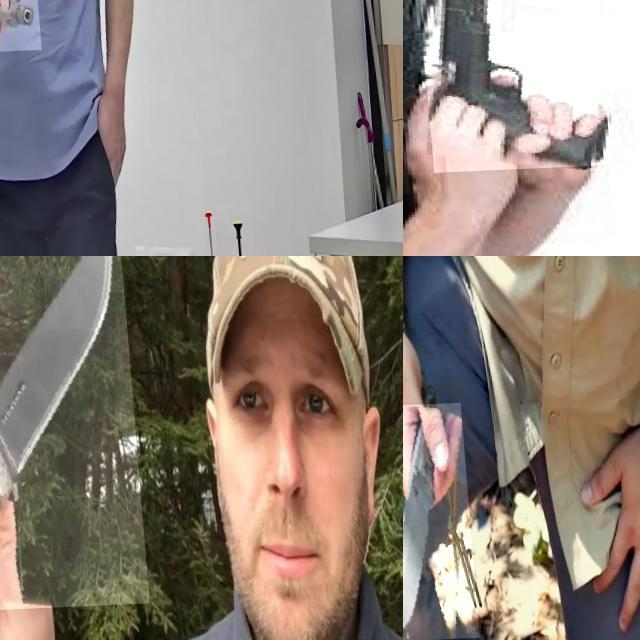-: (0, 256, 142, 613), (403, 405, 472, 640)
gun-knife-thesis - v11 Yolov5 augmented: (413, 0, 604, 176), (403, 0, 461, 174), (0, 0, 42, 54)
